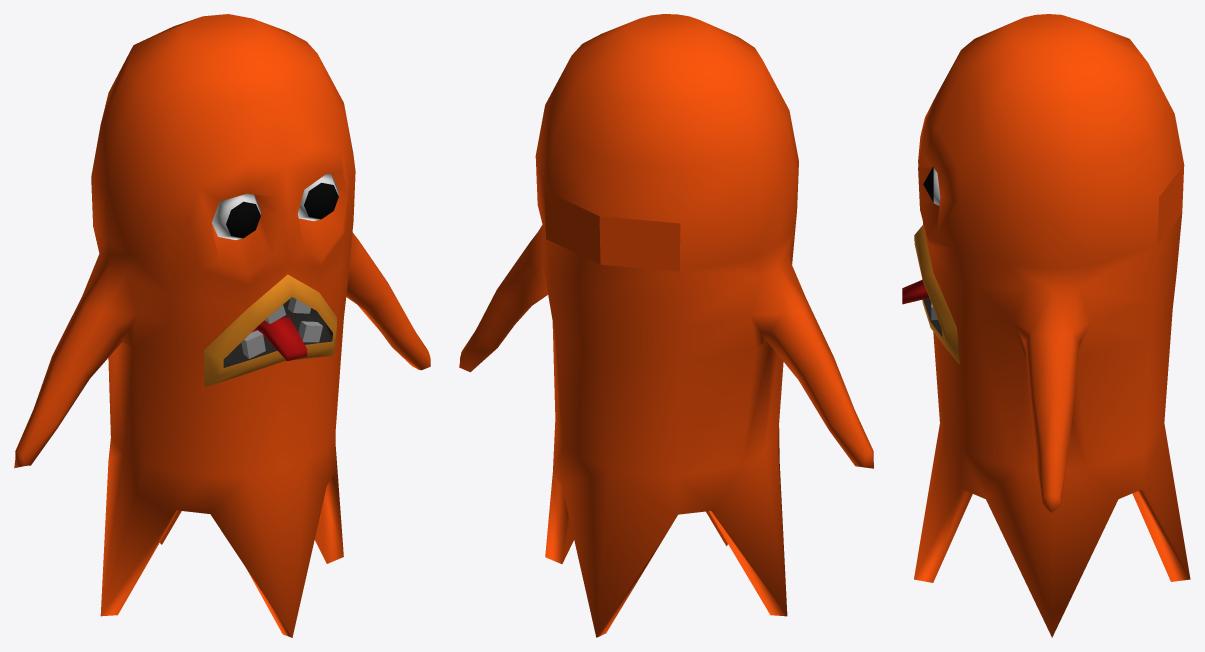
The model's file is clyde.FBX.
The picture shows the model from 3 angles, left to right: view 1: azimuth 30°, elevation 25°; view 2: azimuth 150°, elevation 25°; view 3: azimuth 270°, elevation 25°; orthographic projection.
Parts seen in each view (by area): view 1: clyde Final; view 2: clyde Final; view 3: clyde Final.
Boxes of the visible parts, bbox=[...] form: clyde Final: bbox=[14, 14, 430, 637]; clyde Final: bbox=[459, 14, 873, 637]; clyde Final: bbox=[902, 14, 1190, 637].
Size of the model in its own units: 2.09 by 2.68 by 1.27.
